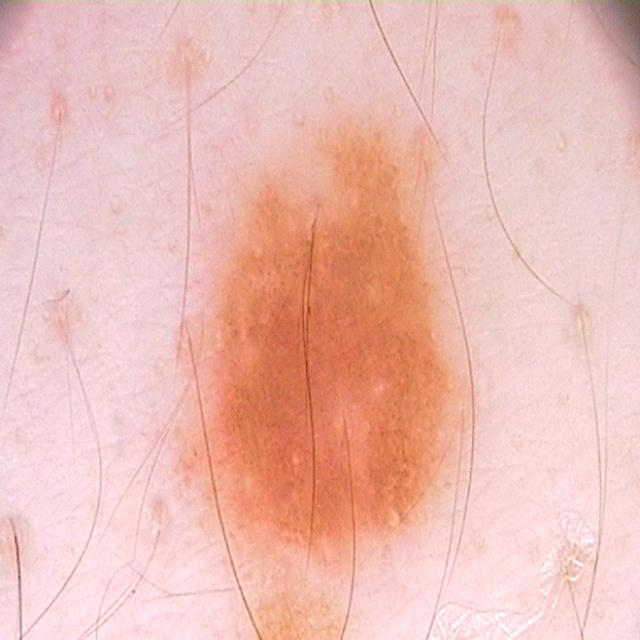Melanoma: (178, 103, 538, 640)
